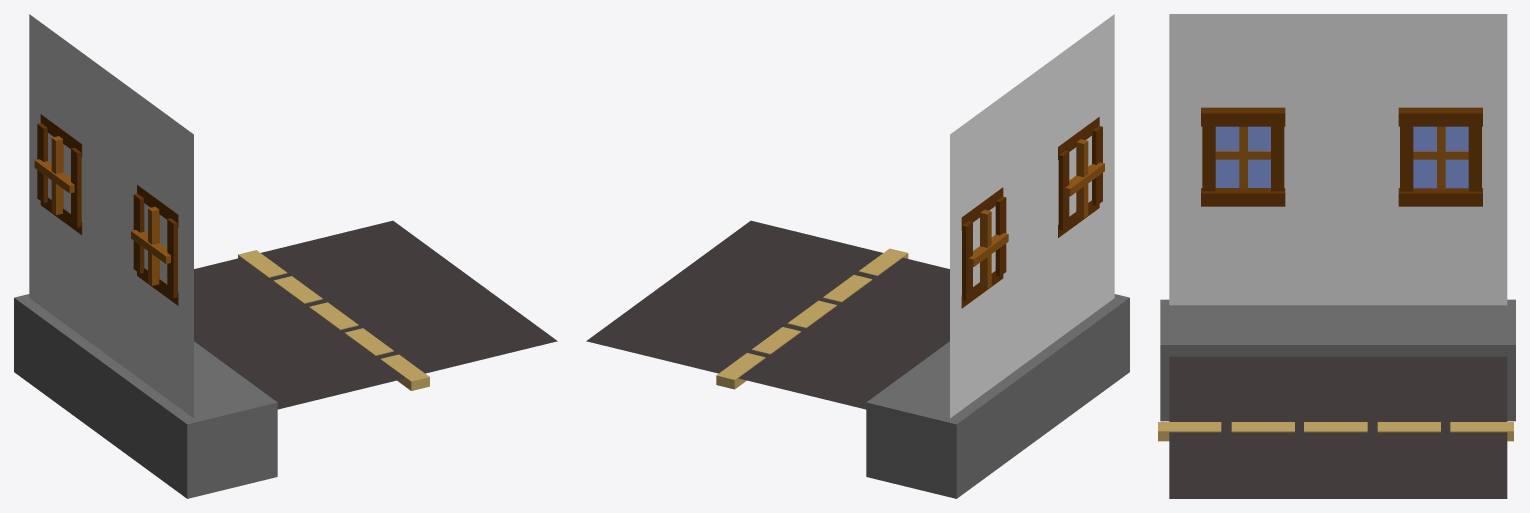
The model's file is сцена.fbx.
3 renders of one model, left to right at view 1: azimuth 30°, elevation 25°; view 2: azimuth 150°, elevation 25°; view 3: azimuth 270°, elevation 25°, orthographic. The views are drawn at different scales.
Visible parts, largest first — view 1: стена, пол, Куб, желтая херь, рамка, рамка.001, Куб.001, Куб.006; view 2: стена, пол, Куб, желтая херь, рамка.001, рамка, Куб.006, Куб.001; view 3: стена, пол, Куб, рамка, рамка.001, желтая херь, стена.002, стена.001, Куб.006, Куб.001.
Part boxes in pixels (x1,y1,x2,y2): стена: (29,14,193,418); пол: (194,220,557,409); Куб: (14,294,277,498); желтая херь: (238,250,429,390); рамка: (133,184,178,305); рамка.001: (37,114,82,234); Куб.001: (34,136,74,215); Куб.006: (131,206,170,285); стена: (950,14,1114,418); пол: (586,220,949,409); Куб: (866,294,1129,498); желтая херь: (716,248,908,389); рамка.001: (961,187,1006,308); рамка: (1058,117,1102,237); Куб.006: (1065,139,1104,218); Куб.001: (968,209,1008,288); стена: (1169,14,1507,305); пол: (1169,356,1507,498); Куб: (1160,299,1515,421); рамка: (1201,107,1285,206); рамка.001: (1398,107,1482,206); желтая херь: (1158,422,1513,441); стена.002: (1413,126,1468,188); стена.001: (1215,126,1270,187); Куб.006: (1215,126,1270,189); Куб.001: (1413,126,1468,189).
Size of the model in its own units: 1053 by 962 by 849.
